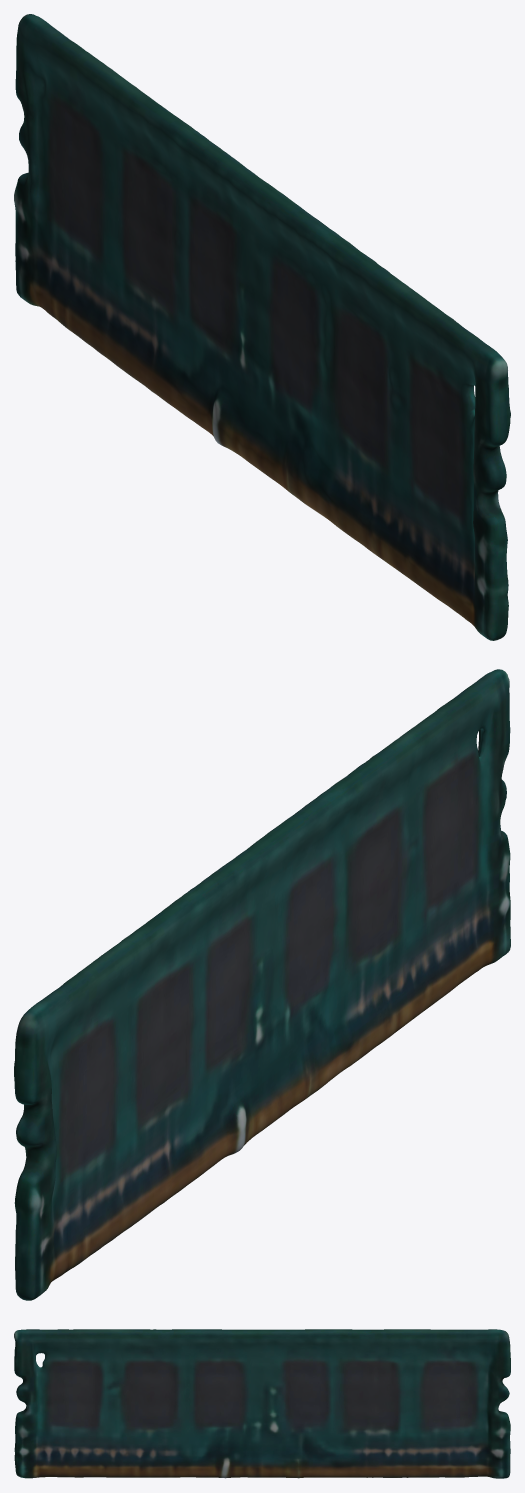
Rendered from 9c86d530725e_memoria_ram__3d_ass.fbx.
3 renders of one model, top to bottom at view 1: azimuth 30°, elevation 25°; view 2: azimuth 150°, elevation 25°; view 3: azimuth 270°, elevation 25°, orthographic. The views are drawn at different scales.
Parts seen in each view (by area): view 1: high_poly; view 2: high_poly; view 3: high_poly.
Part boxes in pixels (x1,y1,x2,y2): high_poly: [14, 14, 510, 640]; high_poly: [14, 669, 510, 1300]; high_poly: [14, 1329, 510, 1478].
Size of the model in its own units: 3.15 by 32.88 by 100.
